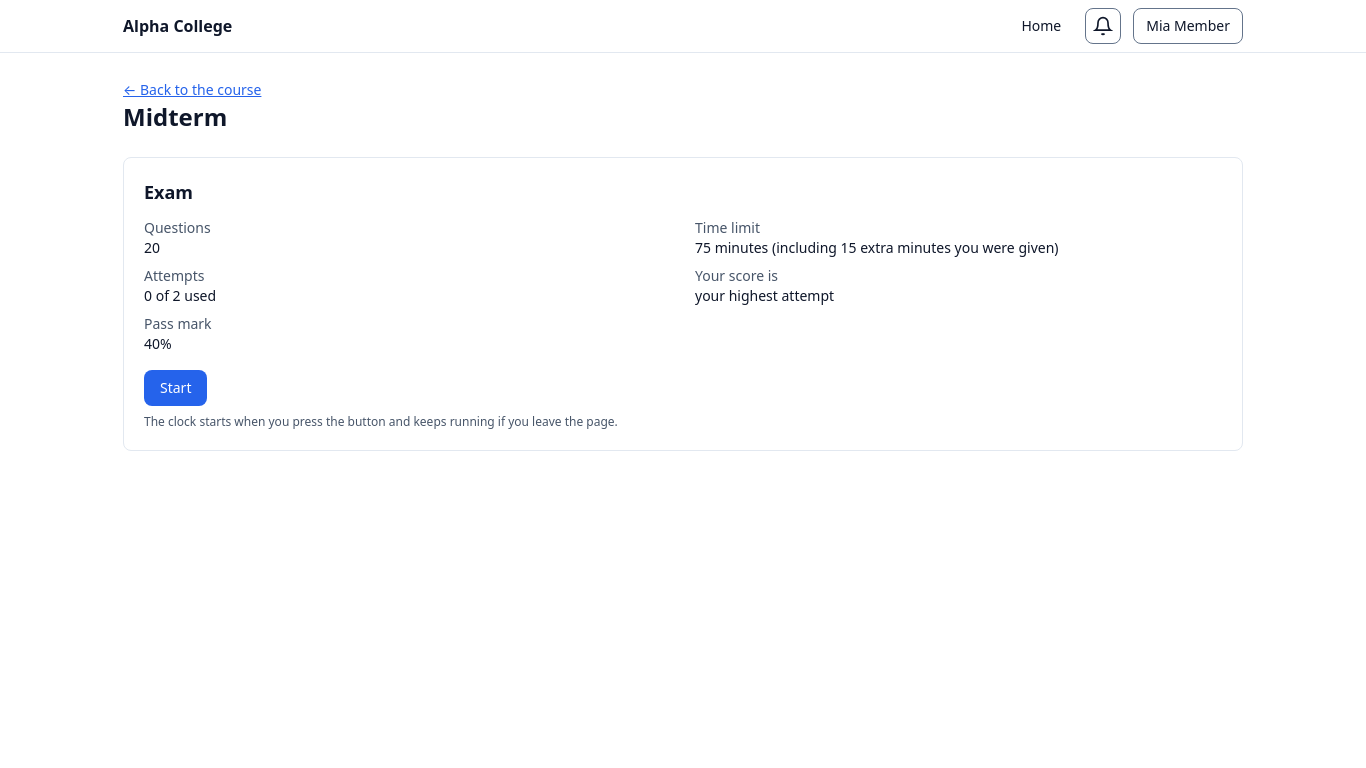
Scenario: the assessment page of a learner › shows the rules, includes the extra time, and starts an attempt
The width and height of the screenshot is (1366, 768).
expect the text "75 minutes (including 15 extra minutes you were given)" is shown: met, box [695,238,1058,257]
expect the text "0 of 2 used" is shown: met, box [144,286,216,305]
Click the button "Start" at (176, 388), box [144,370,207,406]
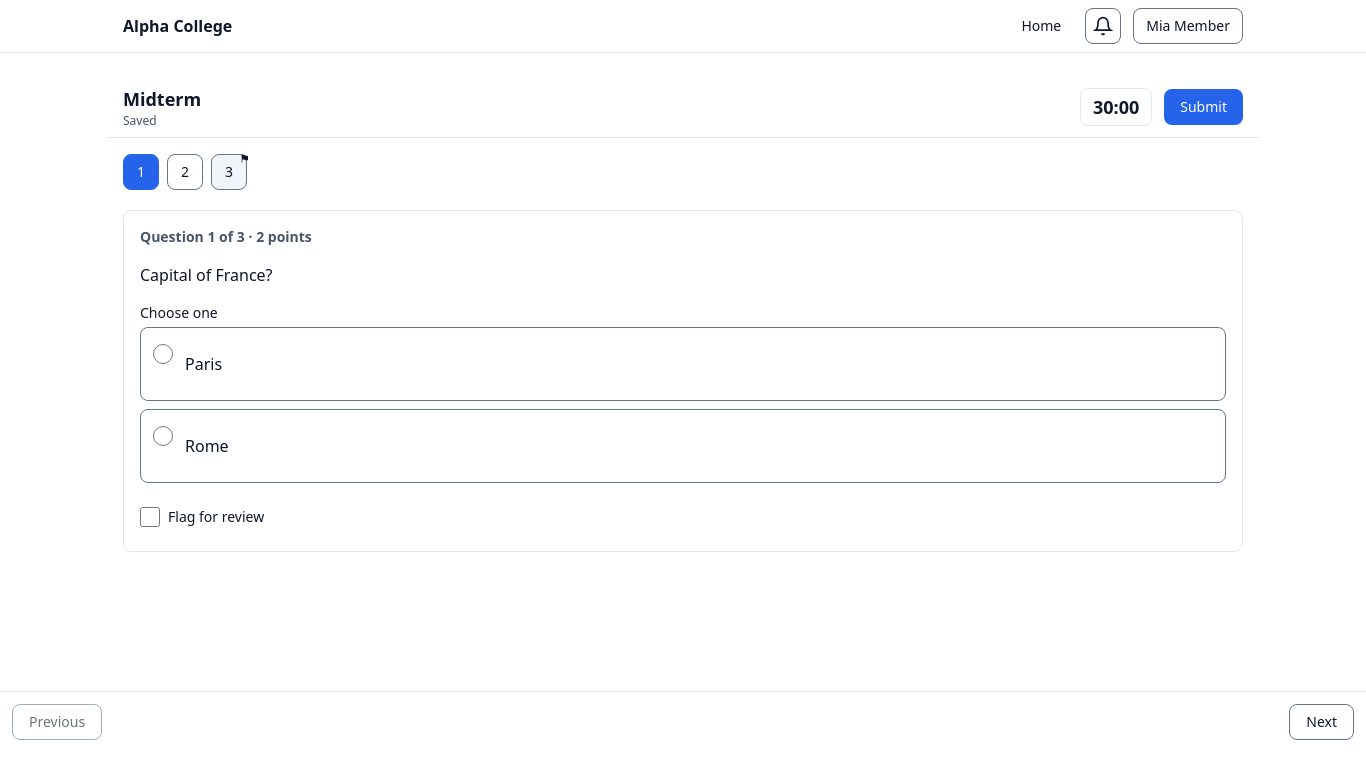
expect the text "Capital of France?" is shown: met, box [140,264,272,286]
